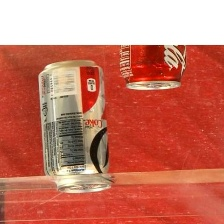can: (26, 56, 118, 197), (116, 44, 190, 93)
